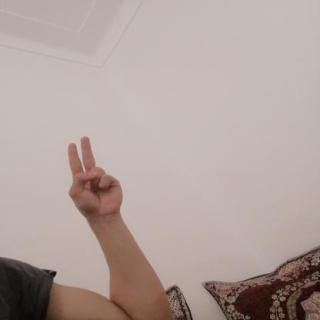TA: (54, 130, 131, 225)
